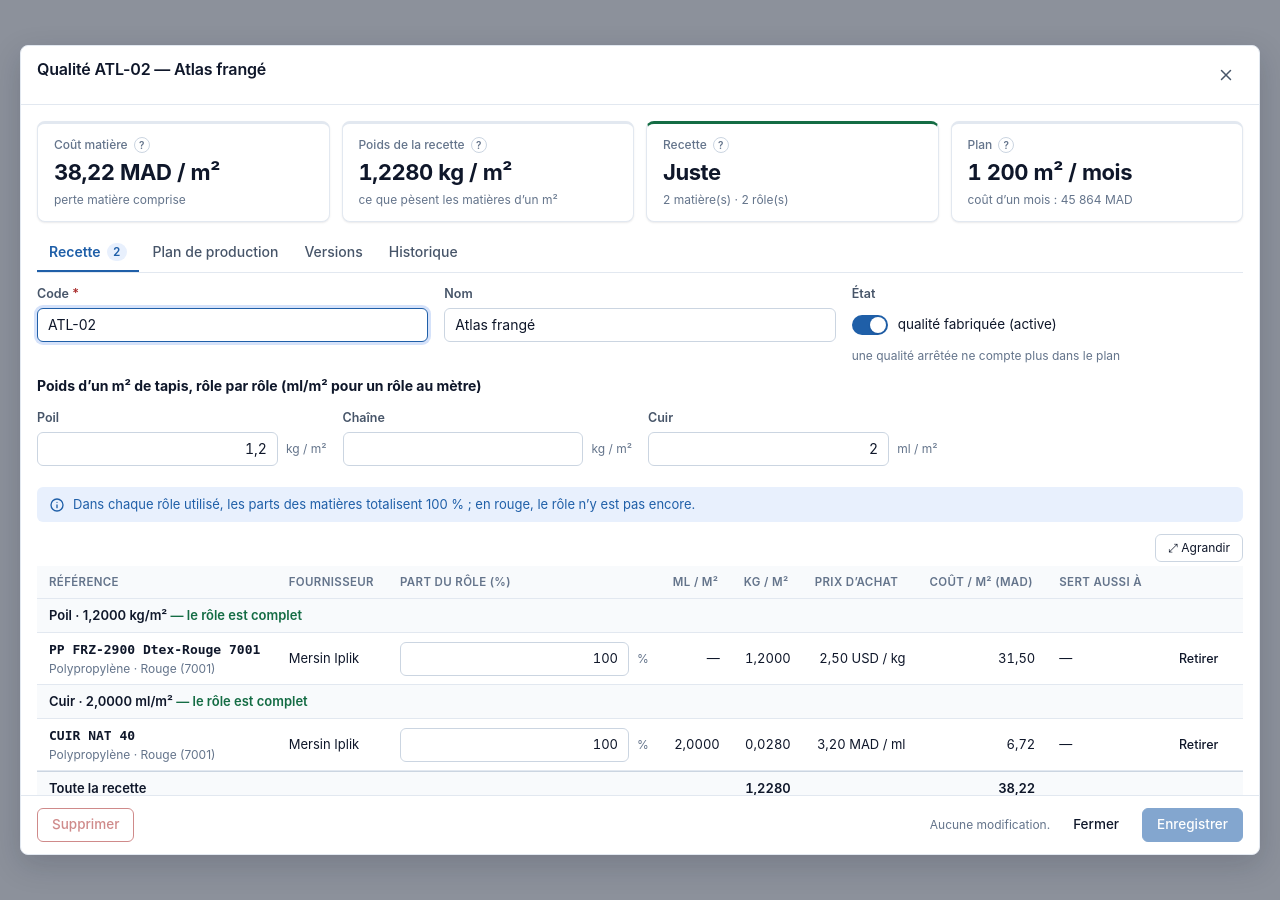
it: Qualités › direction : fiche et recette en une requête, avertissement du serveur dit
Step 1. Replace the text in the field named "Part de PP FRZ-2900 Dtex-Rouge 7001" with "90" → (514, 659), box [400, 642, 629, 676]
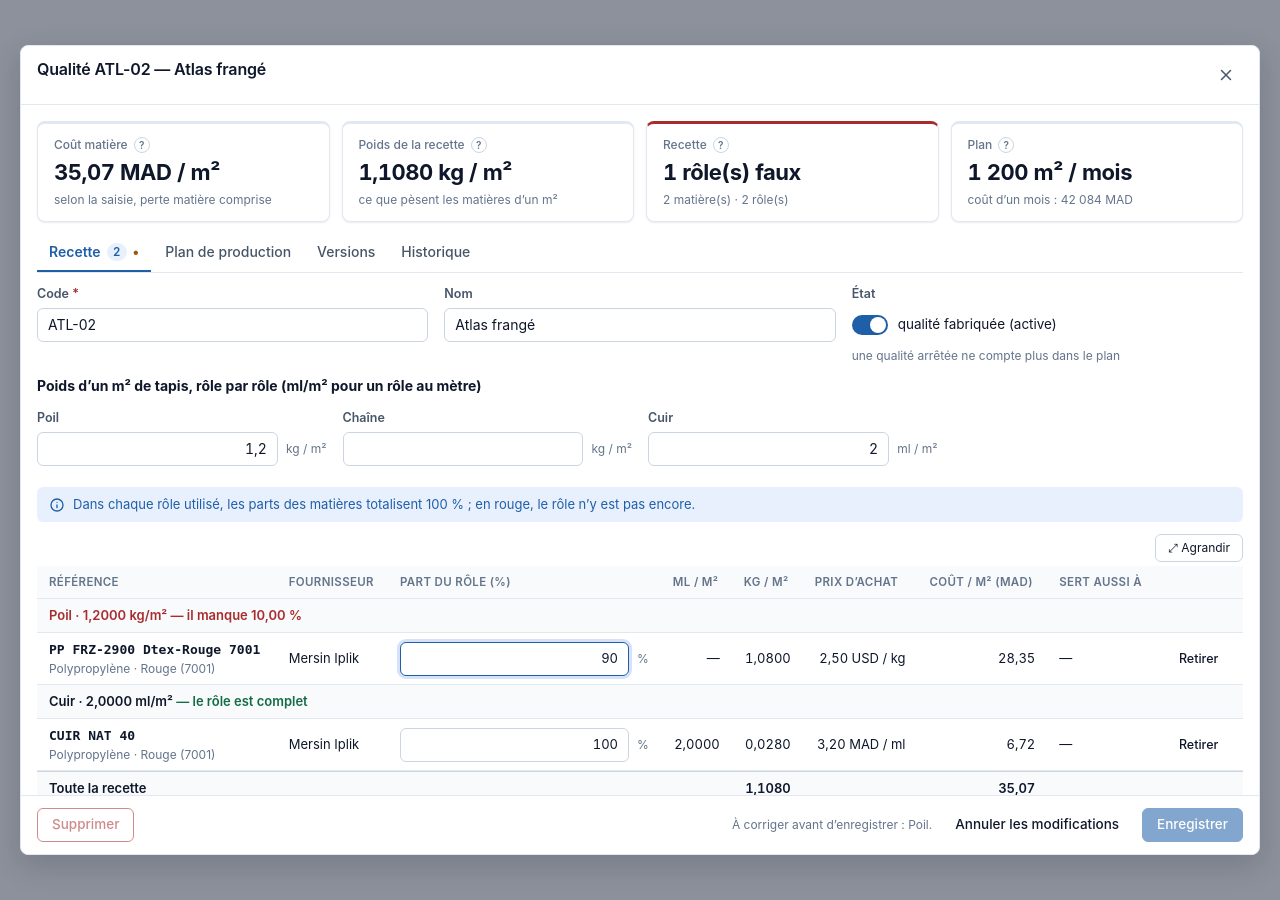
Result: the text "À corriger avant d’enregistrer : Poil." is shown at [732, 816, 932, 834]
Result: the text "— il manque 10,00 %" is shown at [170, 607, 302, 623]
Step 2. Replace the text in the field named "Part de PP FRZ-2900 Dtex-Rouge 7001" with "100" → (514, 659), box [400, 642, 629, 676]
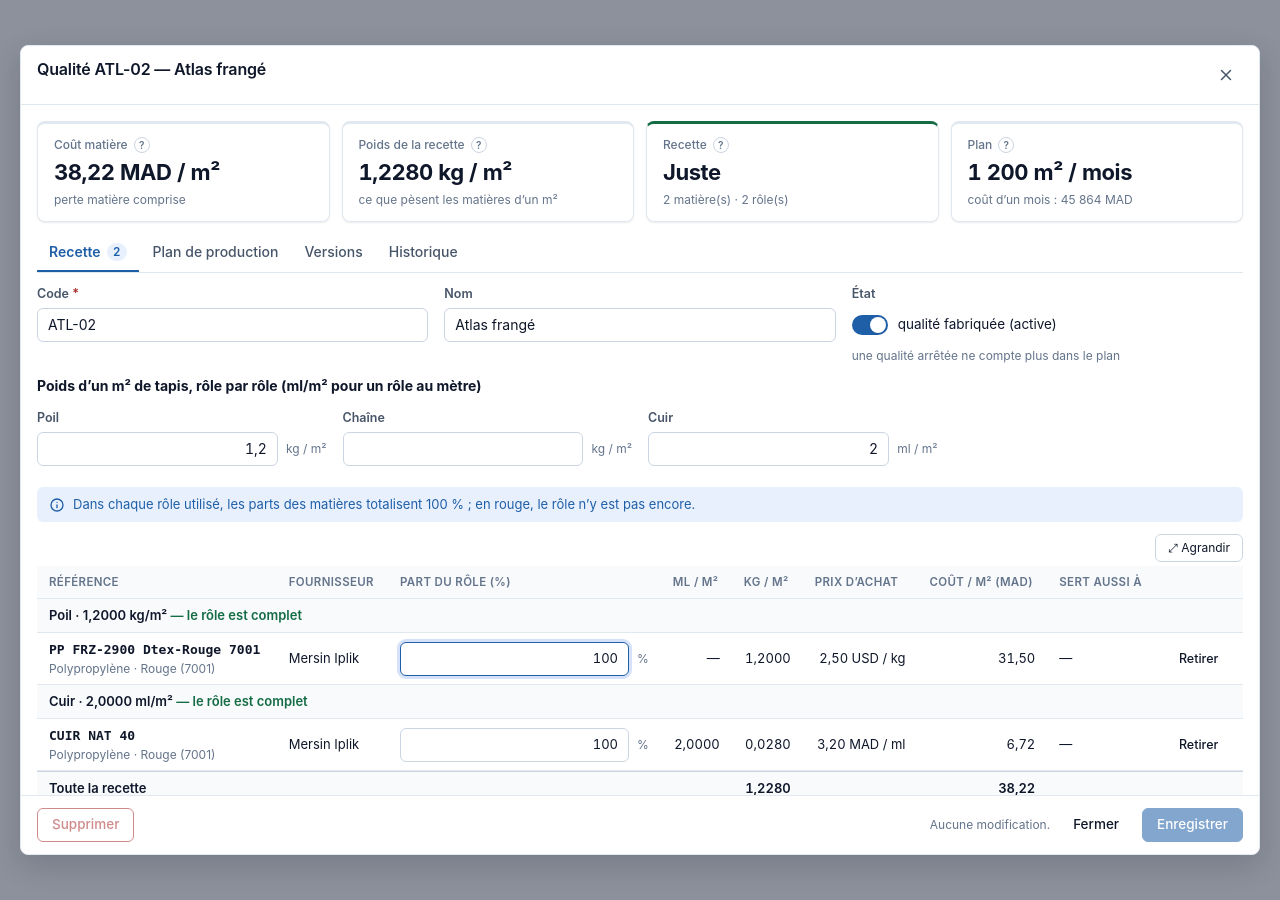
Step 3. Replace the text in the field labelled "Nom" with "Atlas" → (640, 325), box [444, 308, 836, 342]
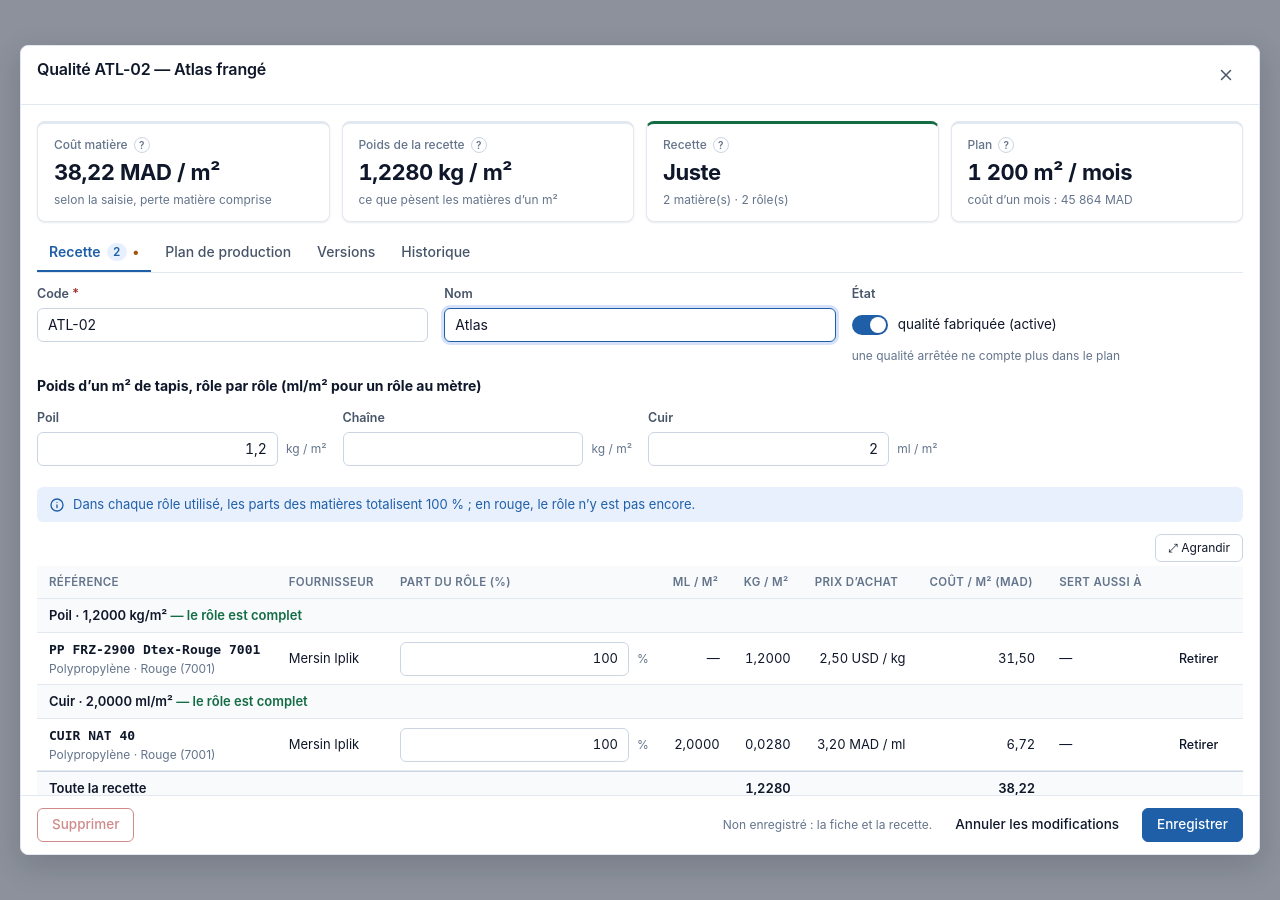
Step 4. Click the button "Enregistrer" → (1193, 825), box [1142, 808, 1243, 842]
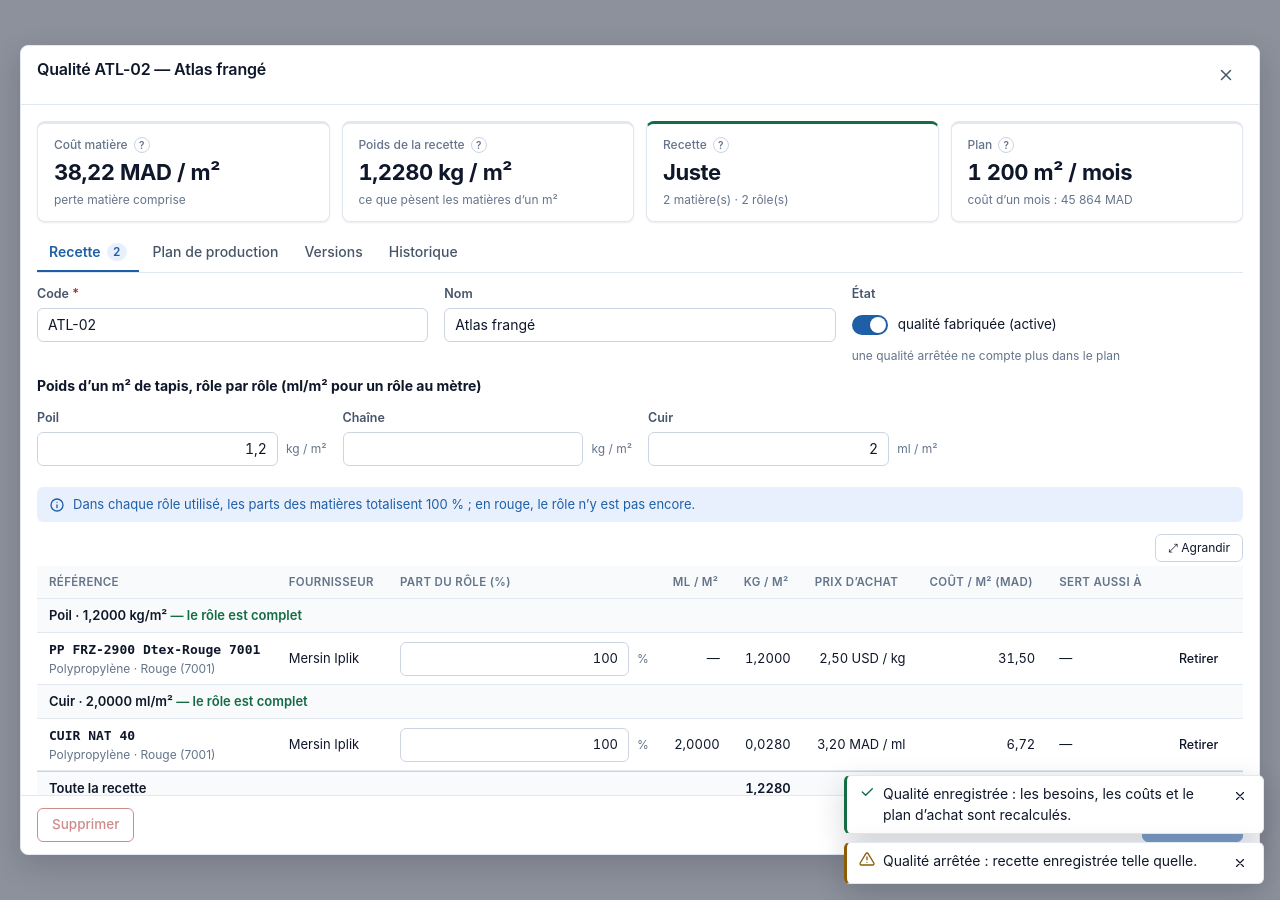
Result: the text "Qualité enregistrée" is shown at [883, 785, 1194, 823]
Result: the text "Qualité arrêtée : recette enregistrée telle quelle." is shown at [883, 851, 1219, 871]
